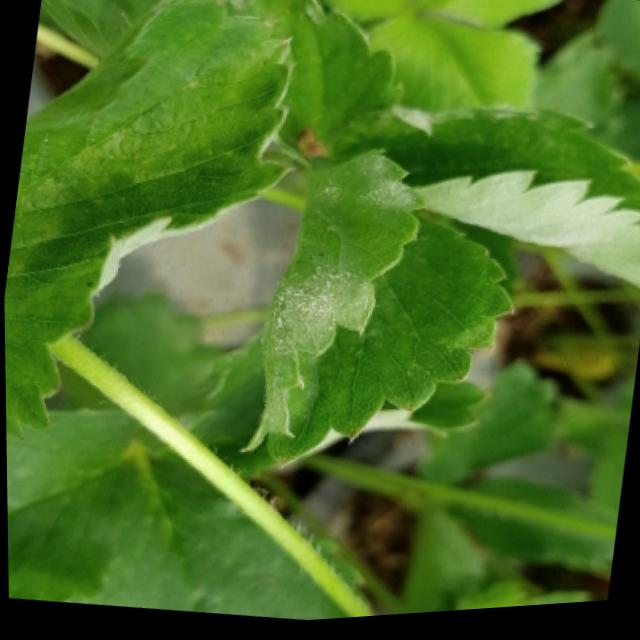Powdery Mildew Leaf: (3, 0, 291, 446), (240, 153, 514, 472), (379, 112, 640, 298), (229, 0, 405, 169)
